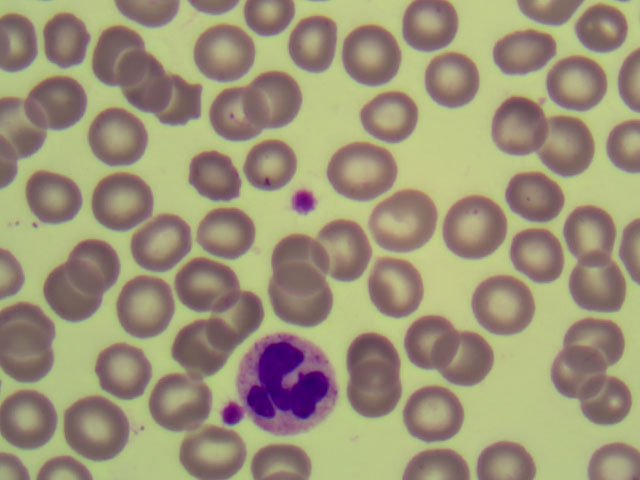Platelets: (291, 190, 316, 215), (220, 402, 243, 427)
RBC: (67, 395, 128, 461), (564, 202, 617, 267), (91, 173, 151, 230), (27, 74, 87, 131), (89, 26, 149, 83), (84, 107, 144, 164), (403, 314, 463, 371), (131, 213, 191, 270), (433, 329, 493, 386), (183, 423, 243, 480), (567, 254, 627, 311), (270, 267, 330, 324), (311, 222, 371, 279), (150, 374, 210, 431), (403, 384, 463, 441), (474, 273, 534, 330), (545, 53, 605, 110), (535, 115, 595, 172), (489, 96, 549, 153), (344, 360, 404, 417), (365, 257, 425, 314), (444, 196, 504, 253), (422, 49, 482, 106), (242, 70, 302, 127), (207, 84, 267, 141), (42, 258, 102, 315), (373, 192, 433, 249), (333, 142, 393, 199), (269, 233, 329, 290), (114, 280, 174, 337), (343, 27, 403, 84), (193, 25, 253, 82), (360, 87, 420, 144), (1, 389, 60, 446), (177, 258, 238, 311), (117, 54, 173, 110), (1, 96, 48, 162), (24, 170, 82, 223), (1, 301, 55, 356), (195, 205, 256, 253), (551, 345, 606, 396), (286, 14, 336, 70), (244, 136, 296, 189), (43, 12, 91, 67), (400, 1, 456, 48), (151, 72, 199, 125), (474, 439, 536, 480), (493, 31, 552, 74), (248, 440, 311, 480), (588, 433, 639, 480), (579, 375, 630, 422), (569, 318, 620, 365), (574, 4, 625, 51), (510, 172, 561, 219), (511, 232, 562, 279), (1, 332, 51, 379), (402, 448, 471, 480), (603, 123, 640, 182), (1, 14, 37, 70), (117, 1, 187, 28), (510, 1, 580, 28), (612, 46, 640, 110), (38, 450, 95, 480), (244, 1, 295, 34), (618, 216, 640, 288), (1, 124, 22, 189), (1, 247, 24, 295), (192, 1, 246, 19), (1, 449, 31, 480)
WBC: (240, 336, 339, 434)
